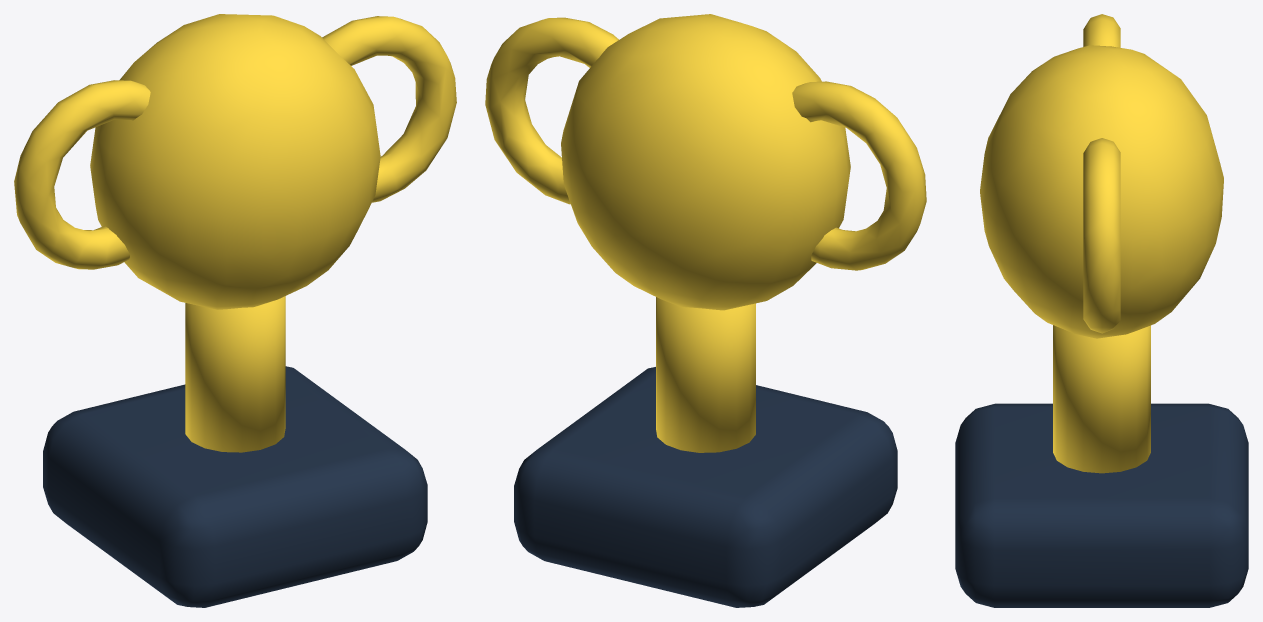
File: Championship_trophy_LOD1.glb
The picture shows the model from 3 angles, left to right: view 1: azimuth 30°, elevation 25°; view 2: azimuth 150°, elevation 25°; view 3: azimuth 270°, elevation 25°; orthographic projection. The views are drawn at different scales.
Parts seen in each view (by area): view 1: Cup, Plinth, Stem, Handle, Handle.001; view 2: Cup, Plinth, Stem, Handle, Handle.001; view 3: Plinth, Cup, Stem, Handle.001, Handle.
Boxes of the visible parts, x1,y1,x2,y2 form: Cup: (90,14,380,309); Plinth: (43,366,427,607); Stem: (185,296,285,452); Handle: (14,80,150,269); Handle.001: (322,16,456,202); Cup: (561,14,850,310); Plinth: (514,367,897,607); Stem: (656,297,755,452); Handle: (792,81,926,270); Handle.001: (485,17,618,204); Plinth: (955,403,1248,607); Cup: (980,45,1223,338); Stem: (1053,325,1150,473); Handle.001: (1083,138,1120,333); Handle: (1083,14,1120,47).
Bounding box in the file's own units: 1 × 1.13 × 0.6.
